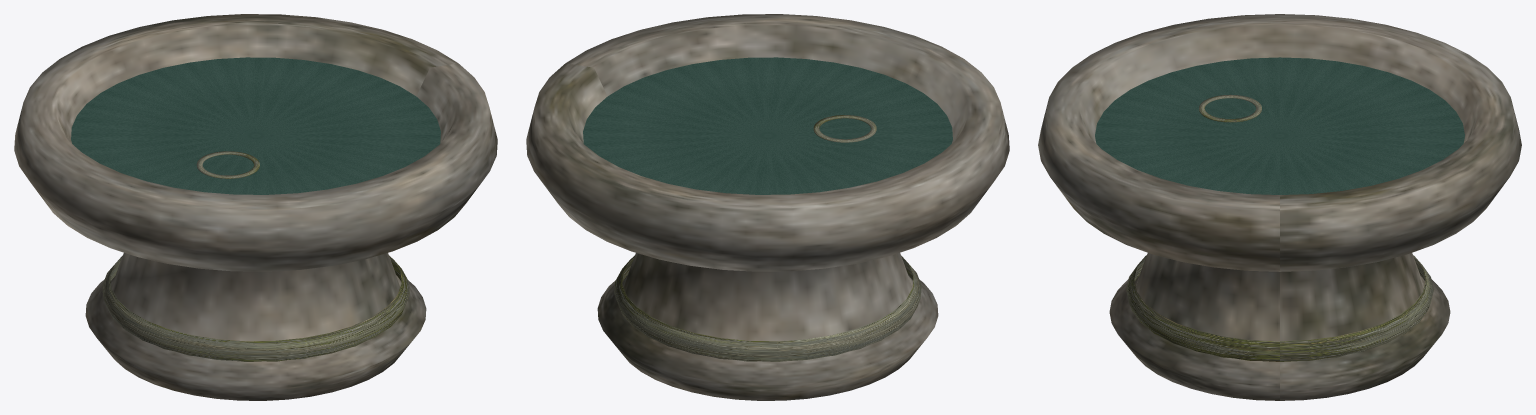
File: moon_basin.glb
3 views of the same model, side by side, from view 1: azimuth 30°, elevation 25°; view 2: azimuth 150°, elevation 25°; view 3: azimuth 270°, elevation 25° (orthographic).
Visible parts, largest first — view 1: moon_basin0; view 2: moon_basin0; view 3: moon_basin0.
Part boxes in pixels (x1,y1,x2,y2): moon_basin0: [14, 14, 497, 400]; moon_basin0: [526, 14, 1009, 400]; moon_basin0: [1038, 14, 1521, 400].
Size of the model in its own units: 1.76 by 0.91 by 1.76.
1 material, 1 textured.
